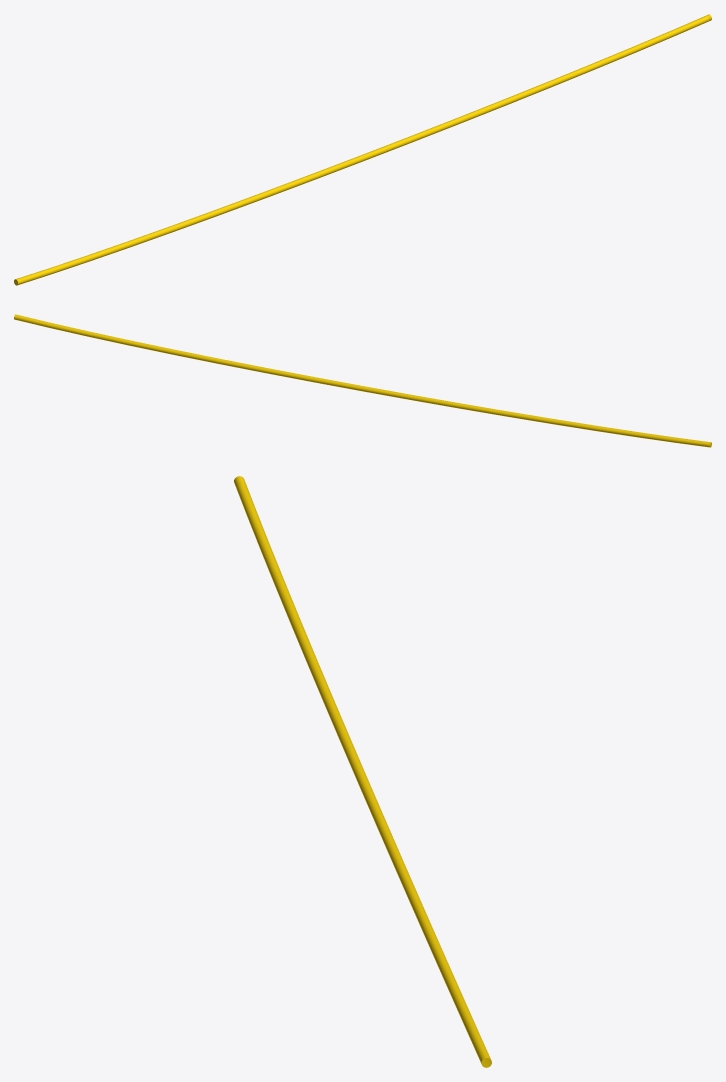
File: Event_421278790_track_14.fbx
3 views of the same model, one above another, from view 1: azimuth 30°, elevation 25°; view 2: azimuth 150°, elevation 25°; view 3: azimuth 270°, elevation 25° (orthographic). The views are drawn at different scales.
Visible parts, largest first — view 1: Model; view 2: Model; view 3: Model.
Boxes of the visible parts, x1,y1,x2,y2 form: Model: (14, 14, 711, 285); Model: (14, 314, 711, 447); Model: (234, 476, 491, 1067).
Size of the model in its own units: 5.49 by 0.2043 by 0.9653.
